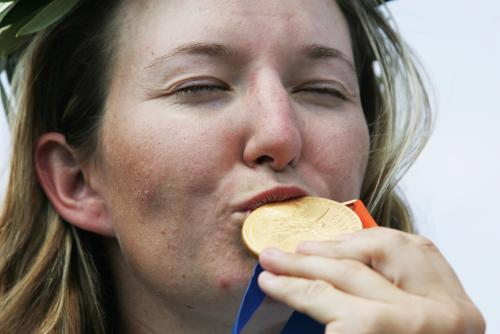face: (91, 1, 389, 298)
